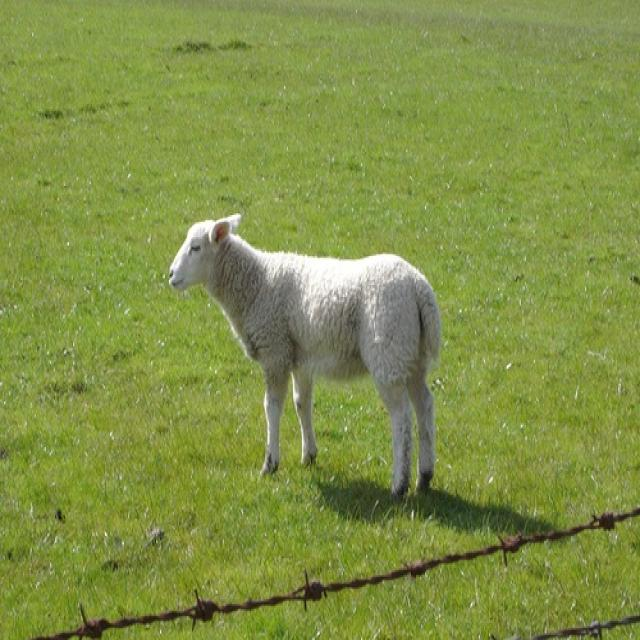sheep: (165, 208, 444, 498)
